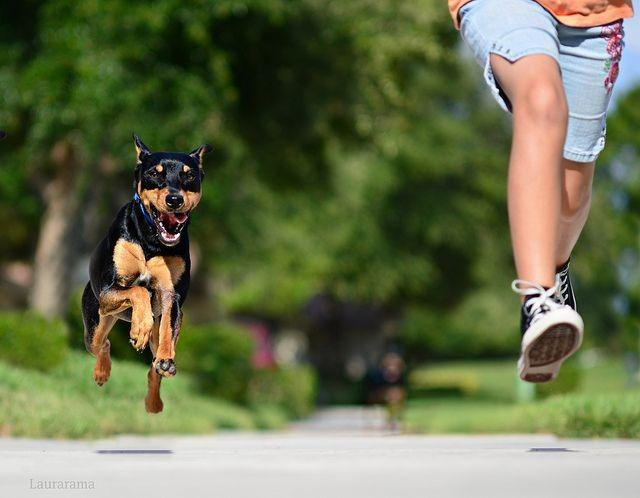adult_dog: (79, 130, 216, 416)
non-dog: (448, 0, 640, 383)
